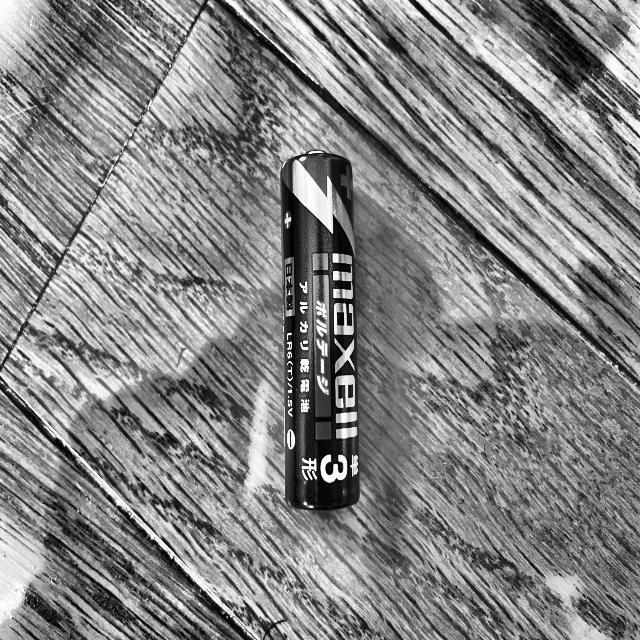drycell: (266, 140, 376, 532)
